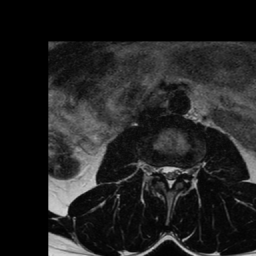CCS_normal: (167, 158, 174, 196)
LFS_stenosis: (181, 159, 190, 182)
LLS_stenosis: (174, 158, 181, 185)
RFS_normal: (151, 157, 159, 182)
RLS_normal: (159, 158, 167, 185)
